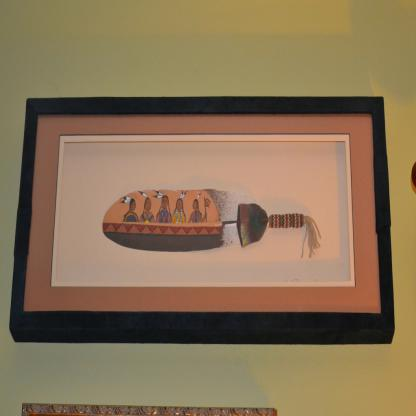Picture-frame: (10, 98, 399, 355)
